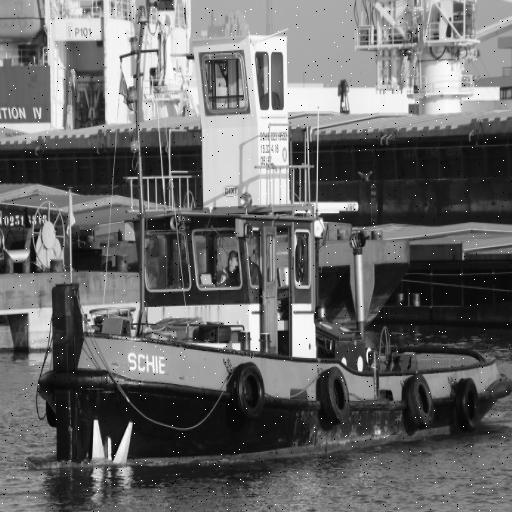tugboat: (36, 27, 512, 484)
